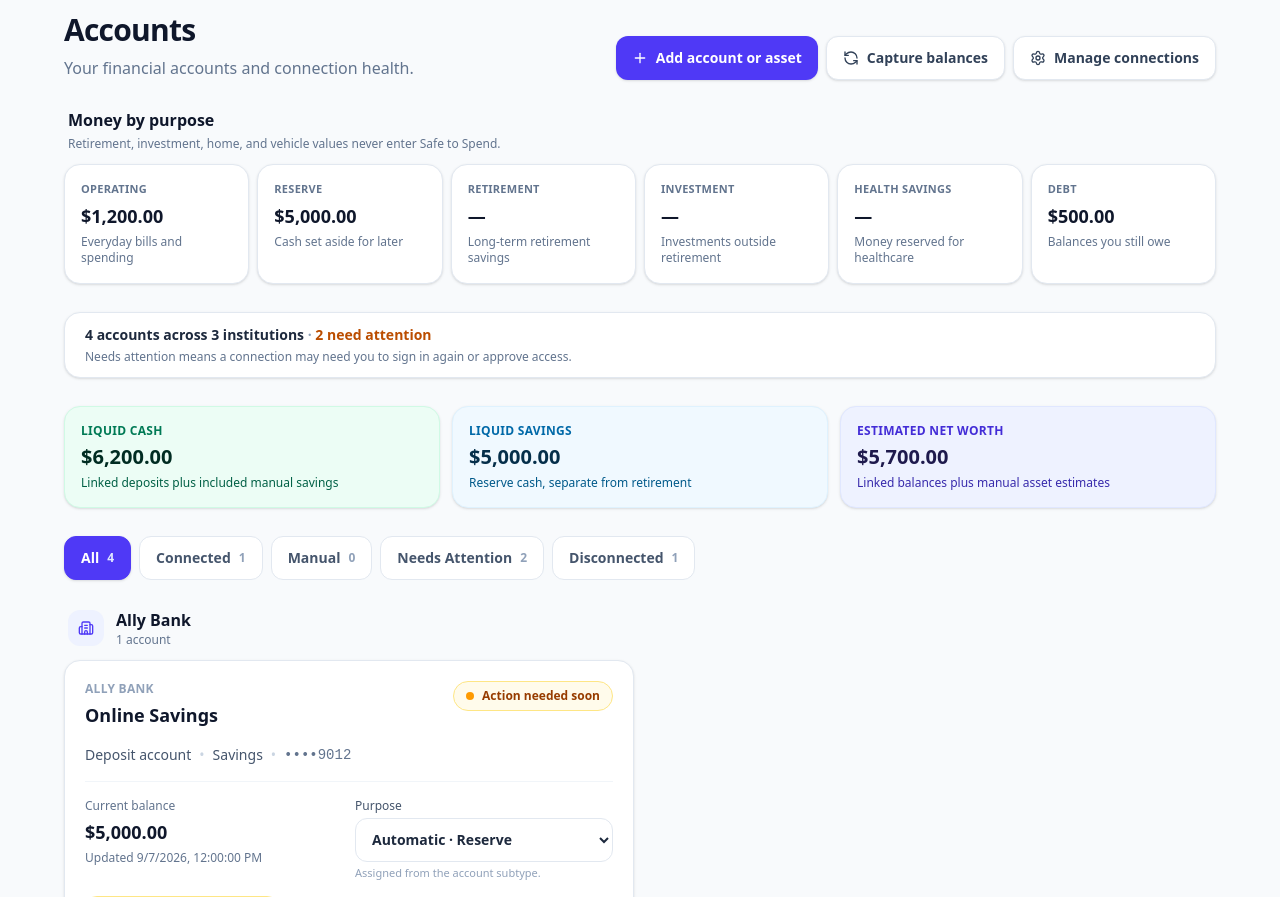
Test: AccountsPage › filters connected, attention, and disconnected accounts using shared semantics
Click the button "Connected 1".
click(201, 558)  # box [139,536,263,580]
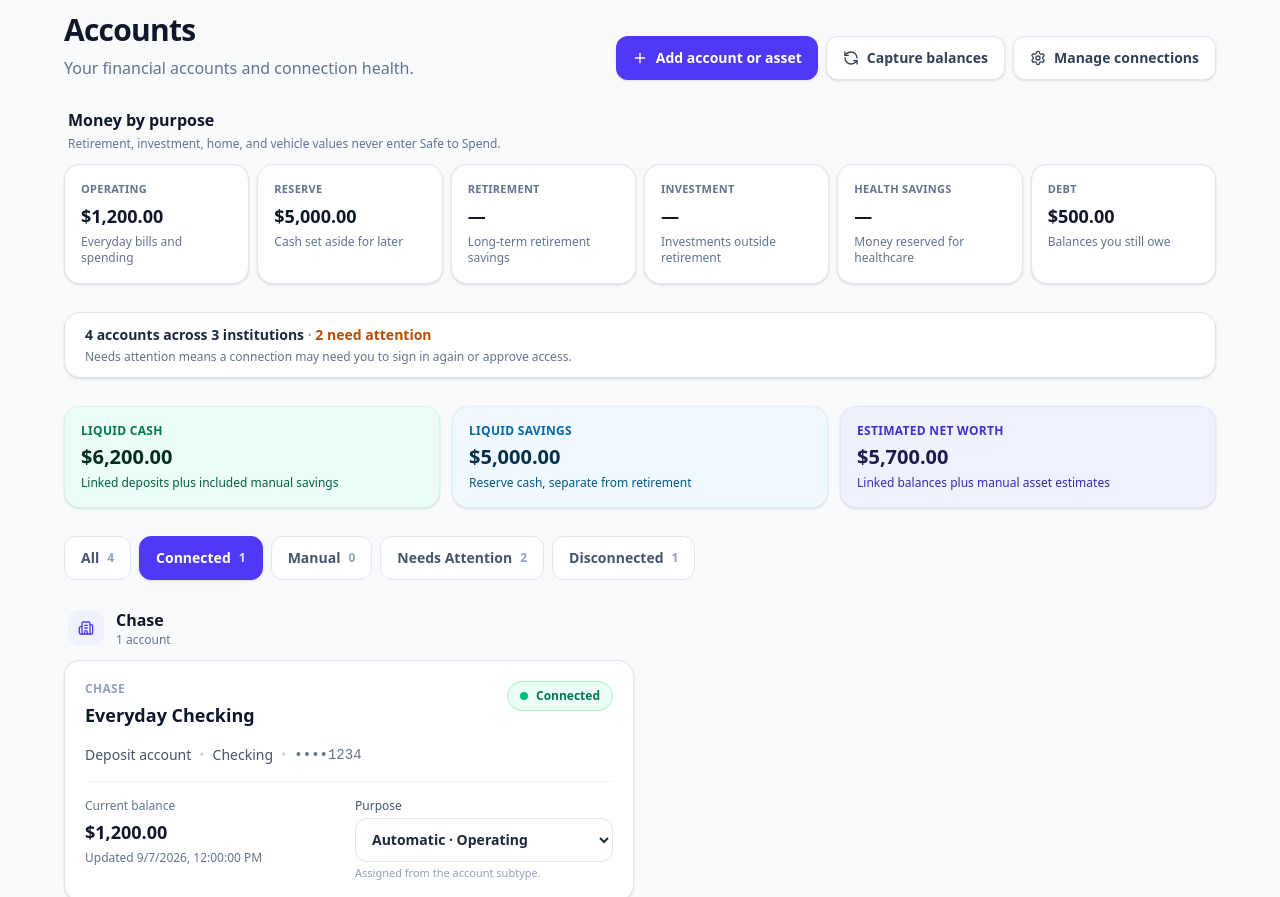
Expected: the text "Everyday Checking" is shown, [85,702,255,726]
Expected: the text "Online Savings" is gone
Click the button "Needs Attention 2".
click(462, 558)  # box [380,536,544,580]
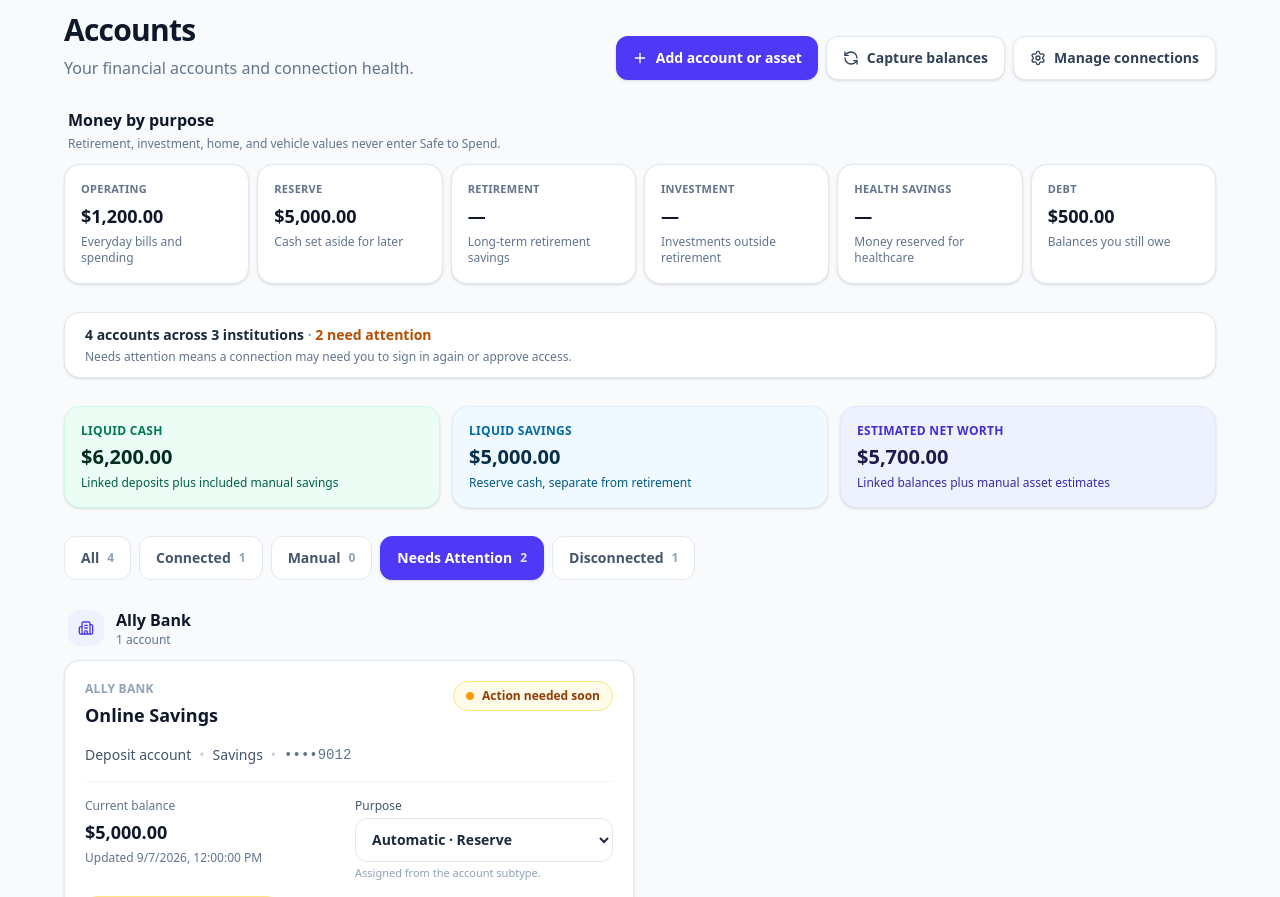
Expected: the text "Old Checking" is not shown
Expected: the text "Online Savings" is shown, [85,702,218,726]
Expected: the text "Everyday Checking" is gone
Click the button "Disconnected 1".
click(624, 558)  # box [552,536,695,580]
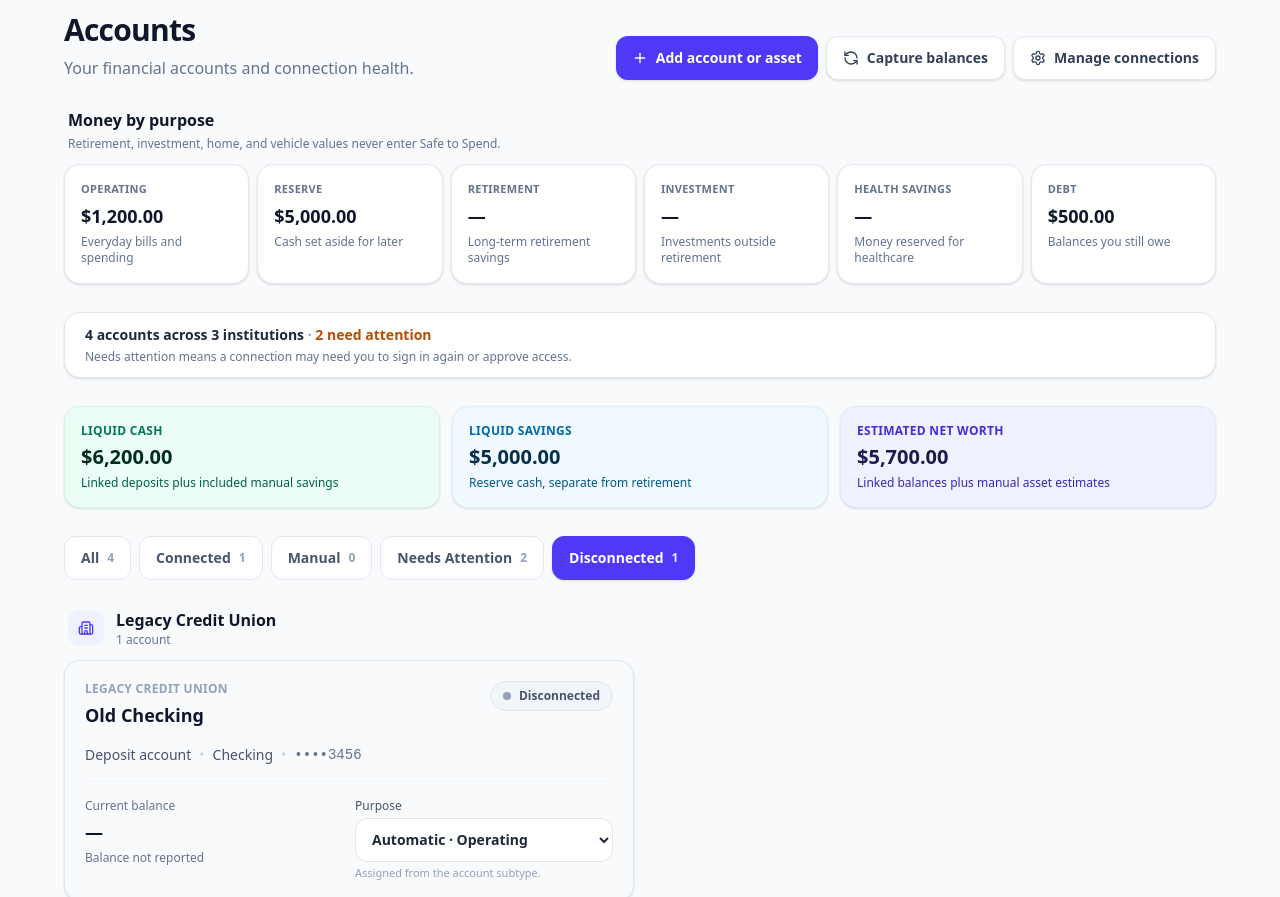
Expected: the text "Old Checking" is shown, [85,702,204,726]
Expected: the text "Online Savings" is gone
